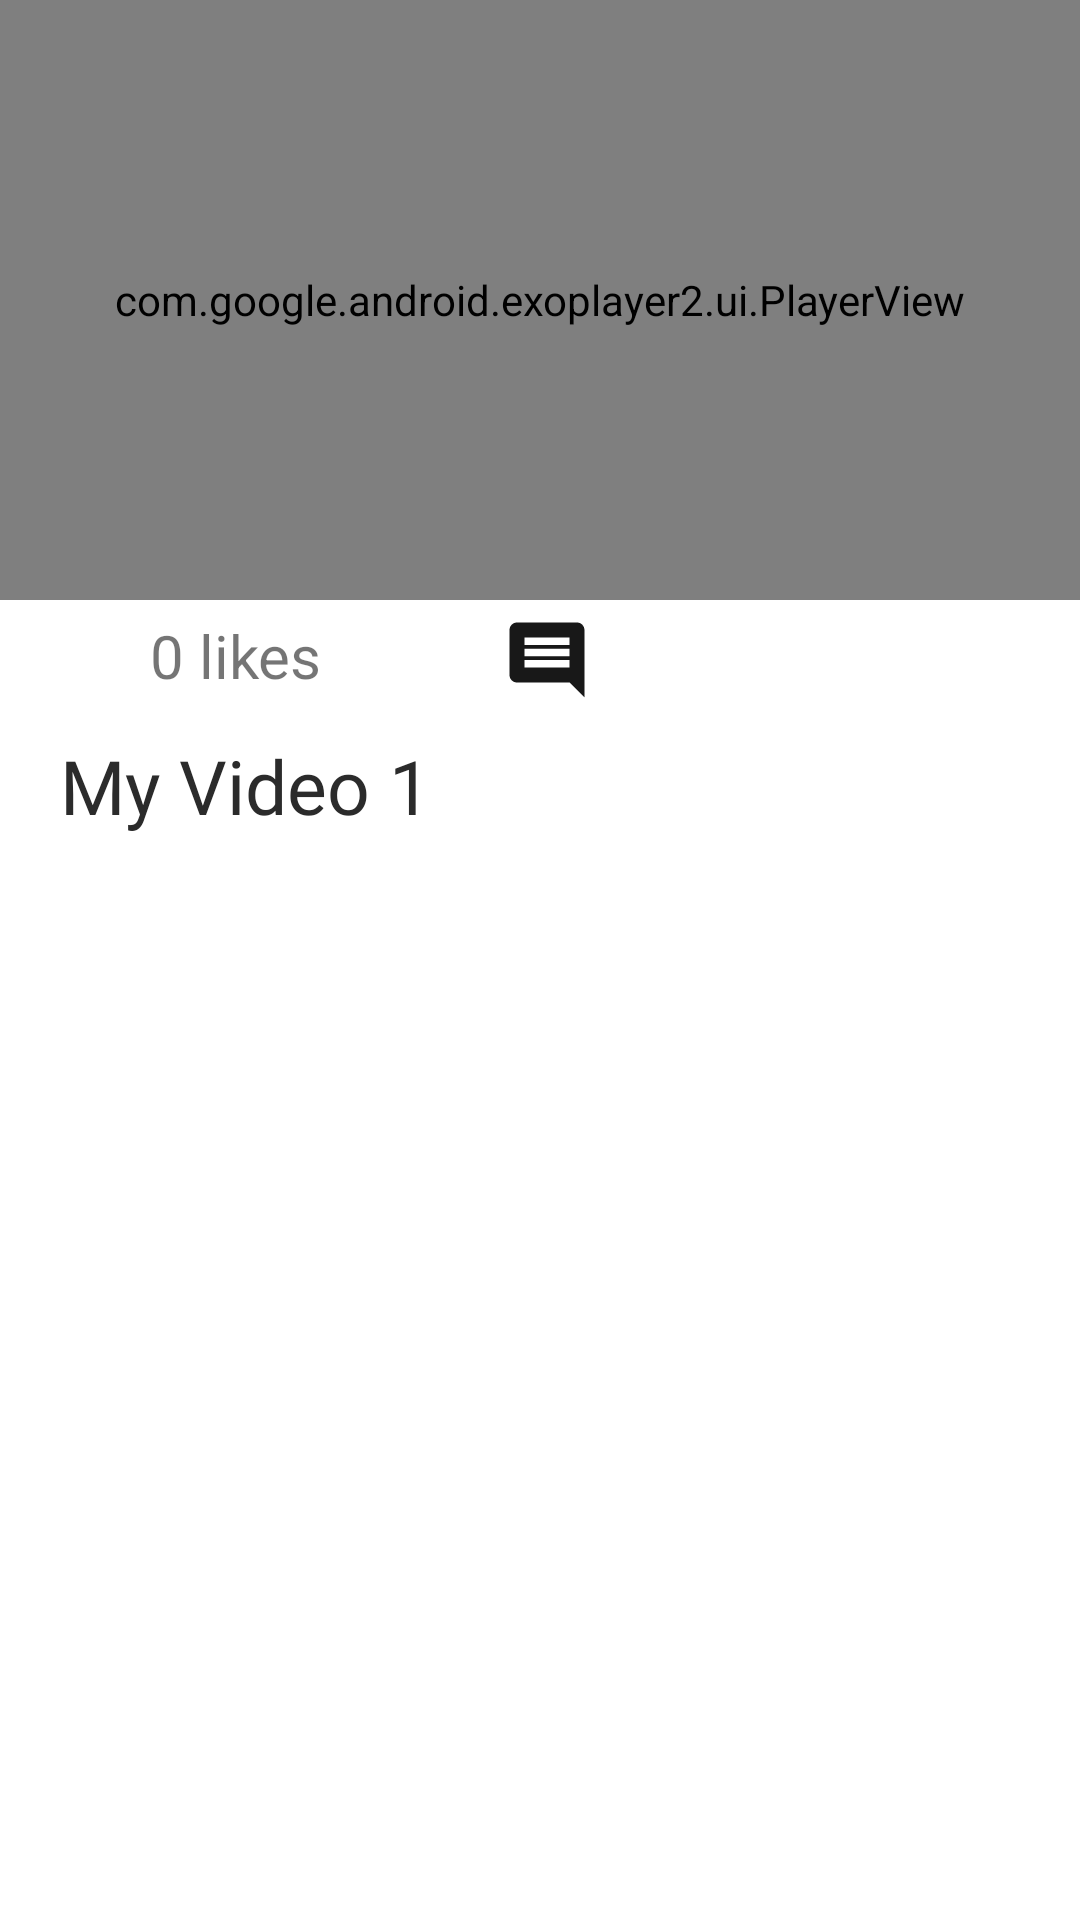

Where icons sit on this 1080*1920 app screen, as (x1, y1, x2, y2):
comment: (509, 622, 585, 697)
